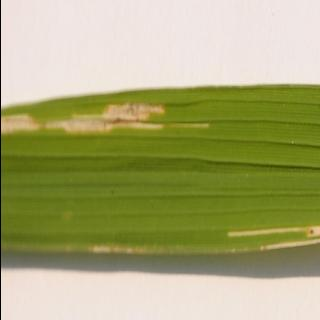Hawar-Daun: (2, 95, 172, 146), (218, 210, 320, 262)
